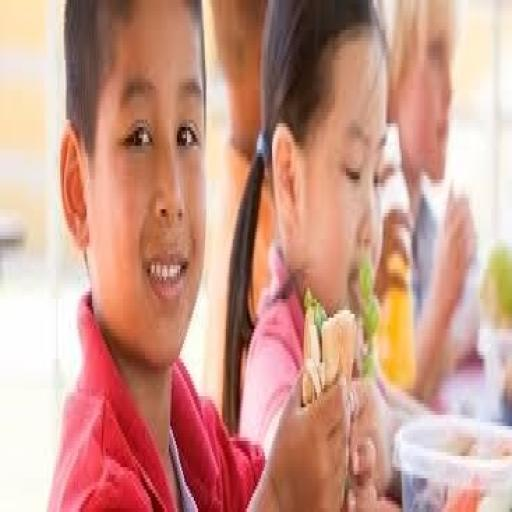eating: (43, 0, 357, 508), (374, 0, 484, 404)
